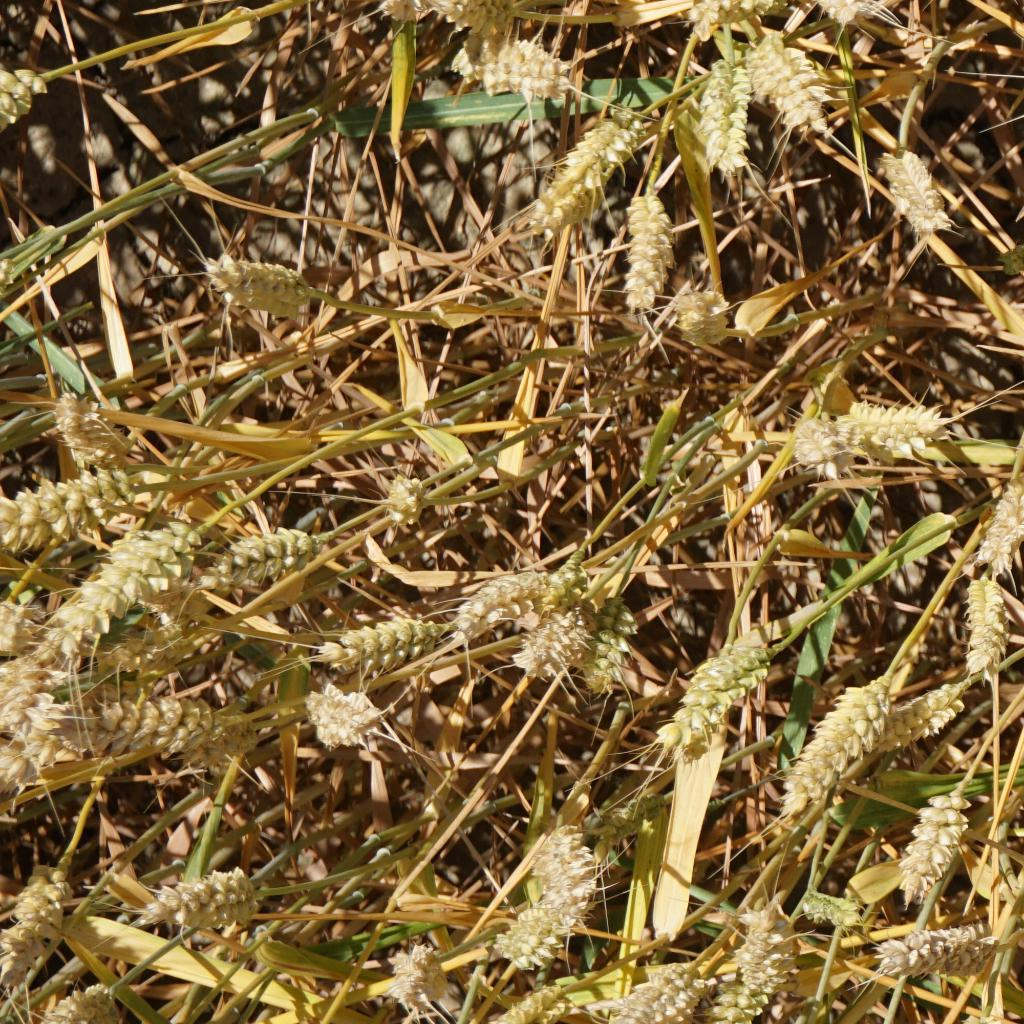0-0: (657, 634, 795, 772), (44, 523, 183, 634), (513, 116, 624, 249), (782, 685, 896, 809), (655, 632, 755, 746), (868, 912, 1010, 988), (320, 610, 456, 682), (873, 134, 960, 241), (0, 474, 142, 539), (440, 38, 572, 106), (742, 28, 835, 120), (837, 389, 947, 466), (122, 856, 246, 924), (897, 780, 969, 897), (696, 49, 755, 179), (718, 897, 800, 988), (612, 200, 678, 305), (520, 572, 583, 682), (165, 707, 269, 772), (866, 669, 956, 743), (101, 619, 203, 684), (211, 523, 316, 585), (203, 257, 315, 315), (968, 475, 1024, 587), (584, 787, 680, 852), (0, 675, 55, 787), (0, 869, 59, 971), (528, 822, 601, 903), (73, 708, 196, 756), (961, 568, 1014, 674), (412, 0, 534, 45), (452, 567, 539, 630), (581, 595, 640, 687), (493, 900, 574, 967), (301, 684, 385, 748), (614, 963, 702, 1024), (48, 384, 123, 455), (668, 284, 741, 351), (792, 408, 859, 476), (683, 0, 777, 48), (385, 940, 448, 1005), (482, 975, 563, 1024), (0, 58, 56, 126), (795, 880, 868, 930), (47, 975, 113, 1024), (718, 969, 769, 1024), (374, 472, 431, 521), (785, 0, 888, 27), (372, 0, 441, 25), (0, 614, 38, 654), (1012, 0, 1024, 59)
